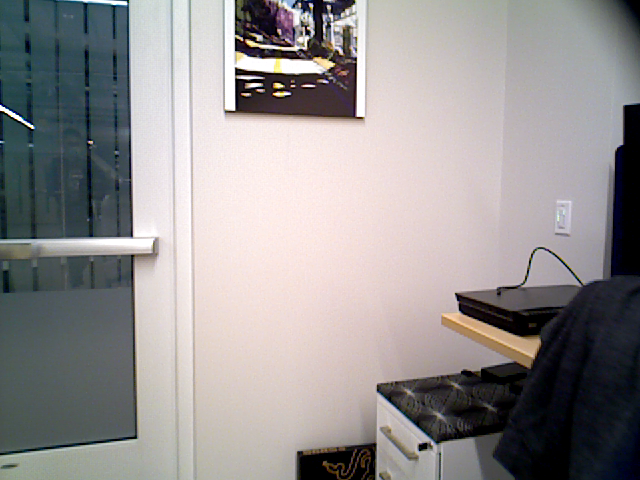painting3: (222, 1, 364, 118)
